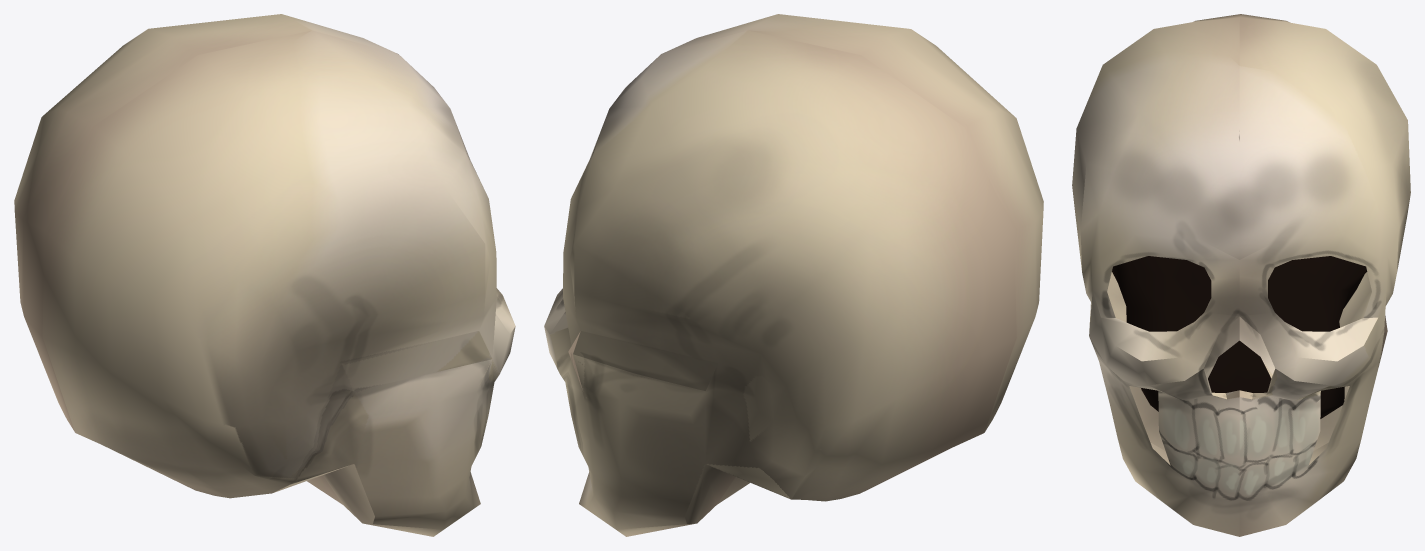
Rendered from Skull.fbx.
3 renders of one model, left to right at view 1: azimuth 30°, elevation 25°; view 2: azimuth 150°, elevation 25°; view 3: azimuth 270°, elevation 25°, orthographic. The views are drawn at different scales.
Visible parts, largest first — view 1: Plane; view 2: Plane; view 3: Plane, Sphere.
Boxes of the visible parts, x1,y1,x2,y2 form: Plane: (14,14,515,536); Plane: (544,14,1043,536); Plane: (1072,14,1410,536); Sphere: (1112,256,1367,418).
Size of the model in its own units: 176 by 202 by 145.
